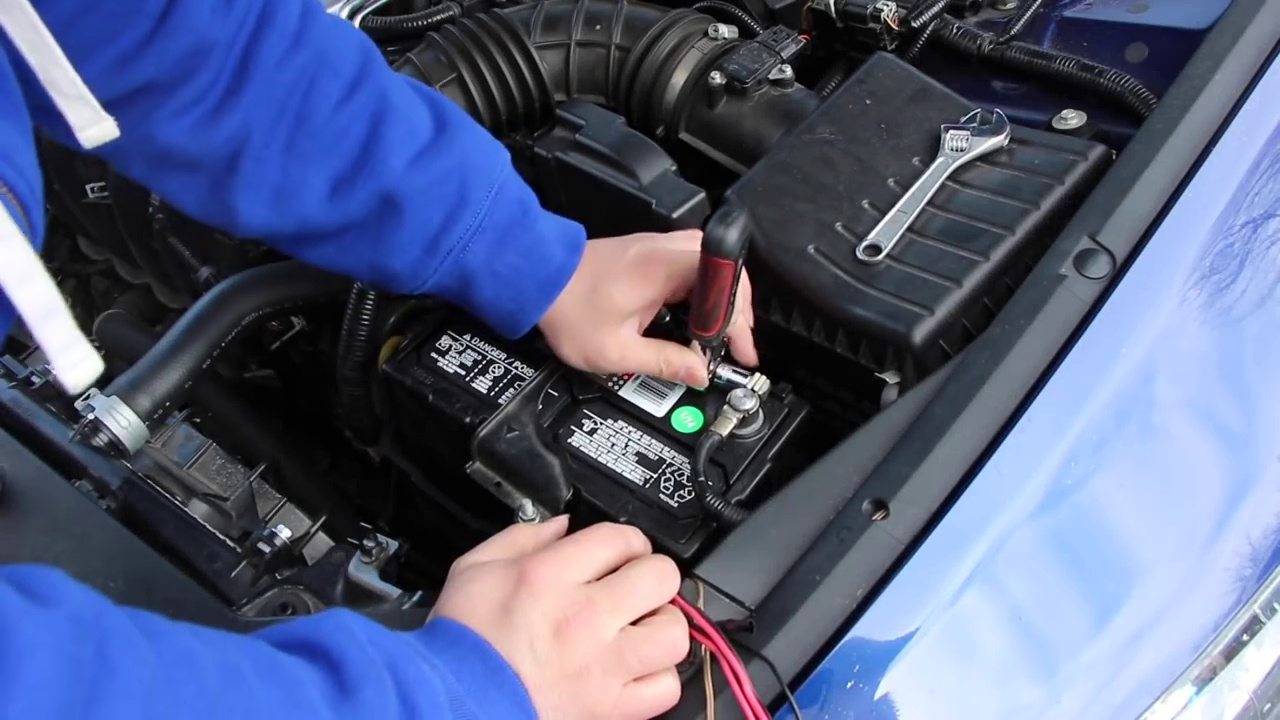battery: (389, 280, 809, 562)
